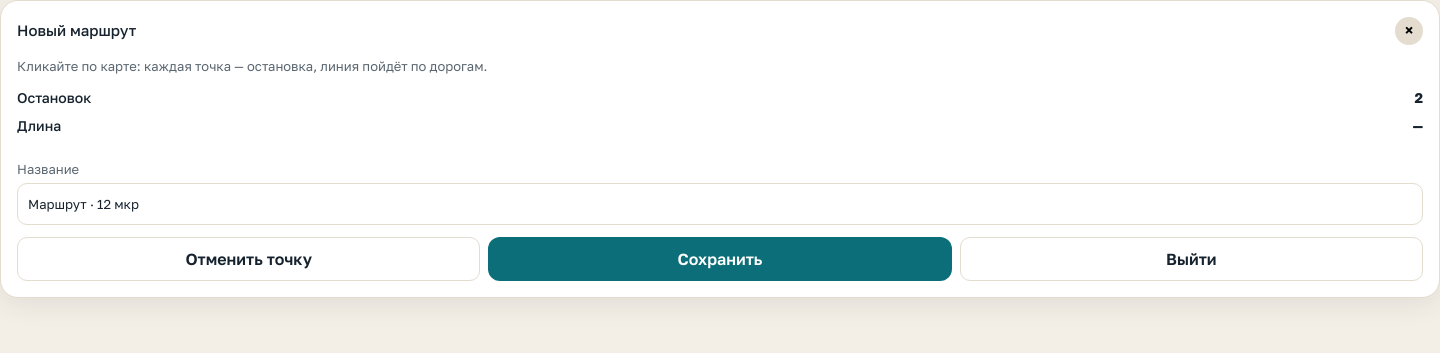
Test case: DrawPanel › shows the server error when saving fails
Click the button "Сохранить". click: x=720, y=259
box: 488,237 -> 952,281
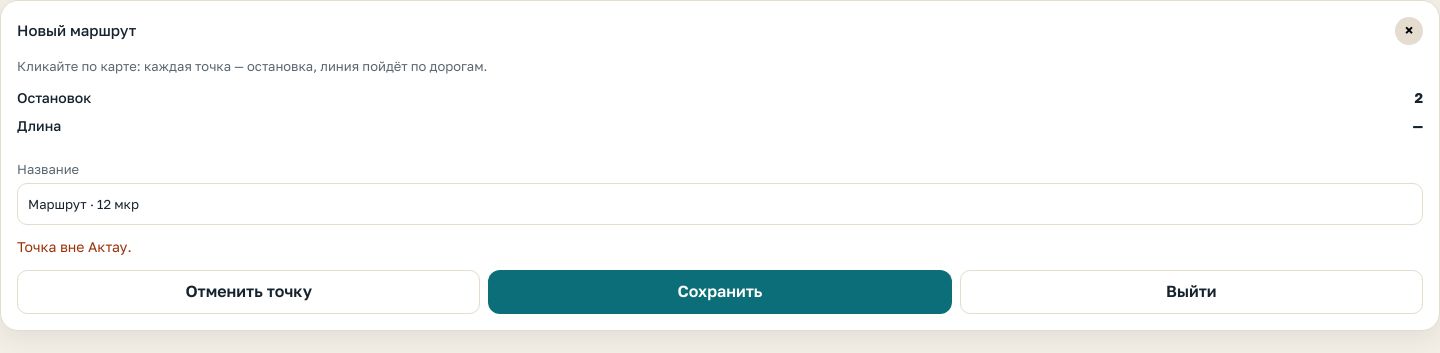
Now the message reads "Точка вне Актау.", box 17,238 -> 132,255
